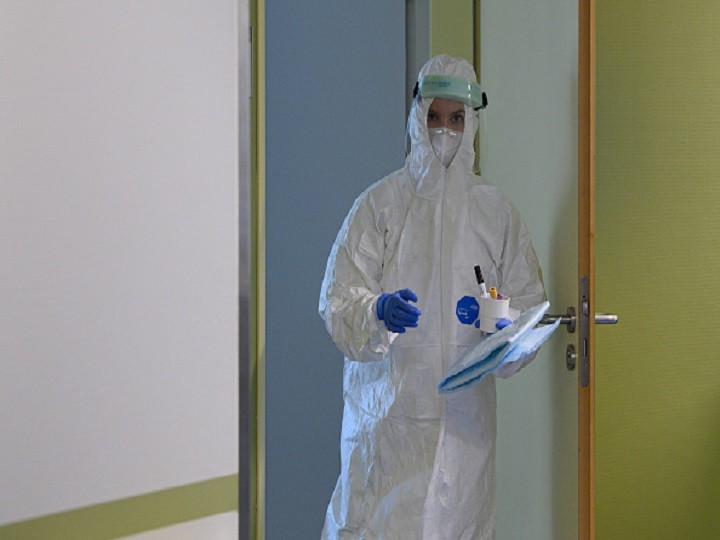Coverall: (312, 51, 552, 540)
Gloves: (376, 286, 424, 338)
with_mask: (425, 95, 466, 172)
